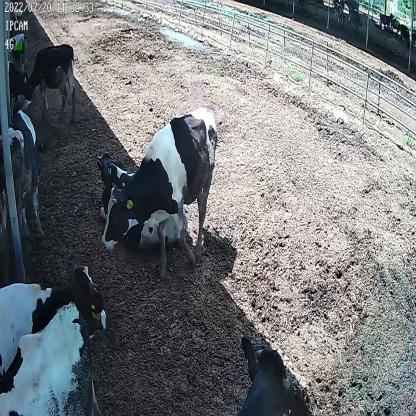cow: (103, 100, 219, 275), (27, 41, 77, 122)
